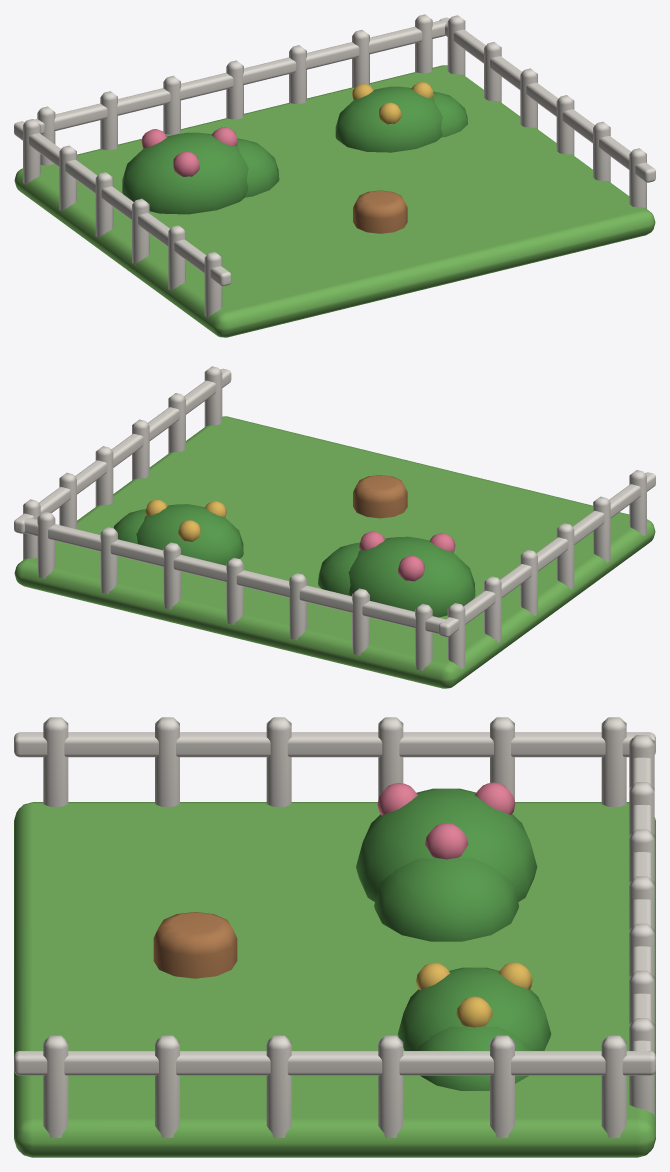
File: plot.glb
3 views of the same model, one above another, from view 1: azimuth 30°, elevation 25°; view 2: azimuth 150°, elevation 25°; view 3: azimuth 270°, elevation 25° (orthographic). The views are drawn at different scales.
Visible parts, largest first — view 1: Cube; view 2: Cube; view 3: Cube.
Boxes of the visible parts, x1=… form: Cube: x1=14, y1=14, x2=655, y2=337; Cube: x1=14, y1=366, x2=655, y2=688; Cube: x1=14, y1=717, x2=655, y2=1157.
Size of the model in its own units: 0.56 by 0.108 by 0.46.
